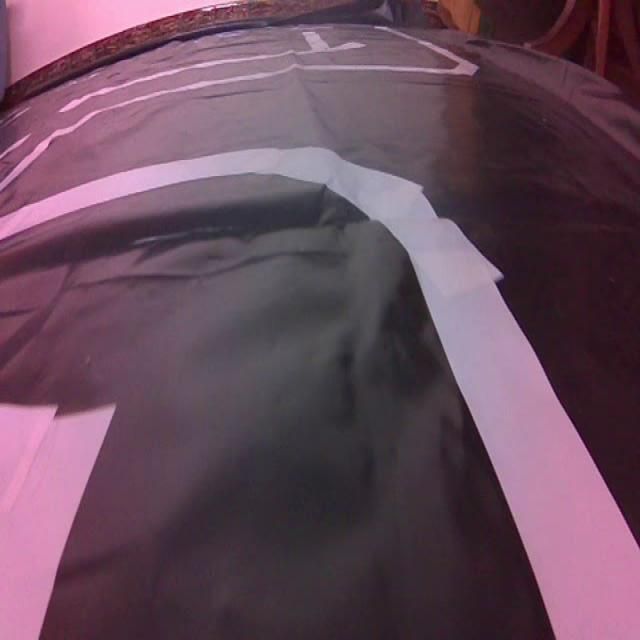LineaCarril: (0, 148, 640, 638), (0, 404, 114, 638)
